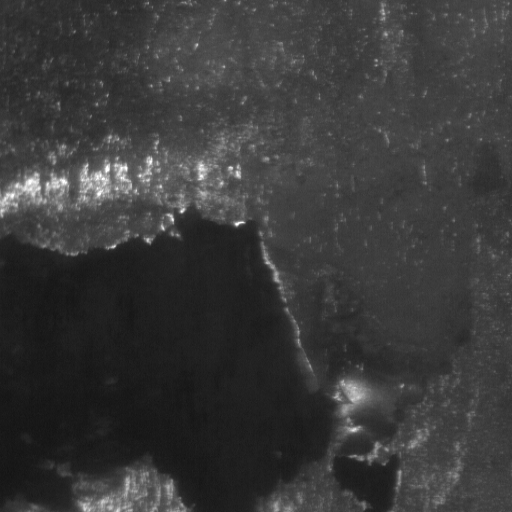aokeng: (1, 201, 339, 512)
